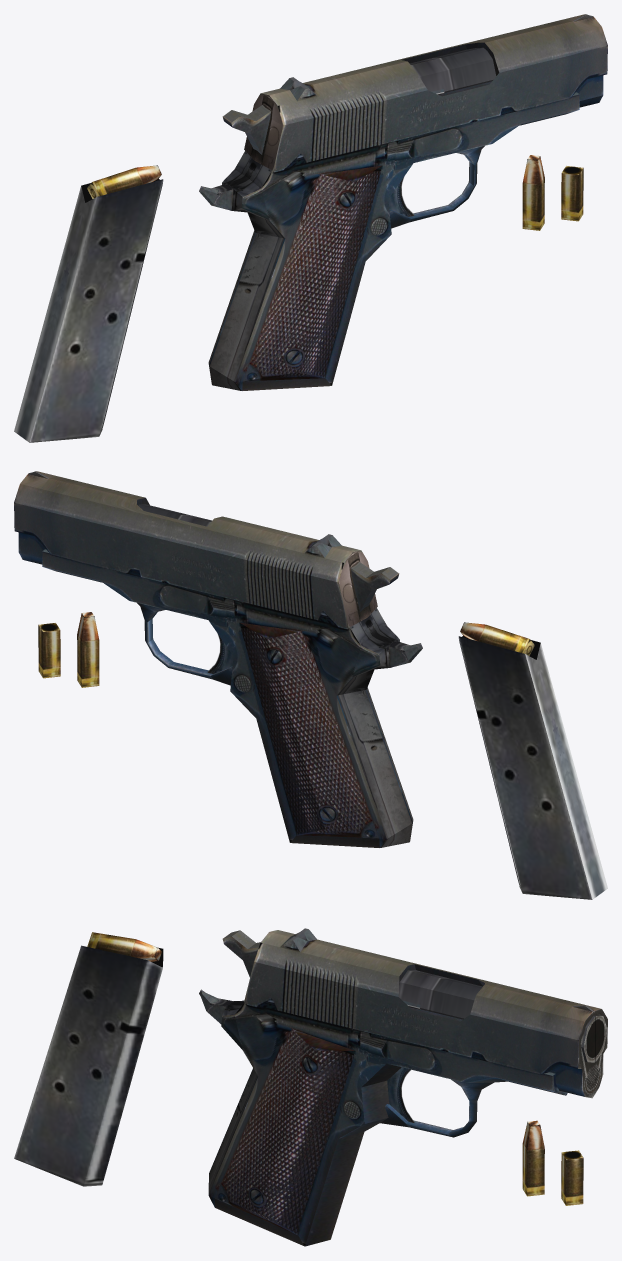
3 views of the same model, one above another, from view 1: azimuth 30°, elevation 25°; view 2: azimuth 150°, elevation 25°; view 3: azimuth 330°, elevation 25° (orthographic).
Visible parts, largest first — view 1: Defender_Body, Defender_Slide, Defender_Mag_Full, 45ACP, Defender_Hammer, 45ACP_Shell; view 2: Defender_Body, Defender_Slide, Defender_Mag_Full, 45ACP, Defender_Hammer, 45ACP_Shell; view 3: Defender_Body, Defender_Slide, Defender_Mag_Full, 45ACP, 45ACP_Shell, Defender_Hammer, Defender_Trigger.
Part boxes in pixels (<box>): Defender_Body: <box>199,47,579,390</box>; Defender_Slide: <box>244,14,607,170</box>; Defender_Mag_Full: <box>14,165,163,442</box>; 45ACP: <box>522,155,544,230</box>; Defender_Hammer: <box>222,105,270,154</box>; 45ACP_Shell: <box>561,166,583,221</box>; Defender_Body: <box>42,504,422,847</box>; Defender_Slide: <box>14,471,377,627</box>; Defender_Mag_Full: <box>458,622,607,899</box>; 45ACP: <box>77,612,99,687</box>; Defender_Hammer: <box>351,562,399,611</box>; 45ACP_Shell: <box>38,623,60,678</box>; Defender_Body: <box>199,970,607,1246</box>; Defender_Slide: <box>244,928,607,1098</box>; Defender_Mag_Full: <box>14,932,163,1186</box>; 45ACP: <box>522,1120,544,1196</box>; 45ACP_Shell: <box>561,1150,583,1205</box>; Defender_Hammer: <box>222,930,260,976</box>; Defender_Trigger: <box>387,1067,414,1122</box>.
Size of the model in its own units: 2.83 by 1.41 by 0.3399.
Materials: 6 (6 with a texture image).
